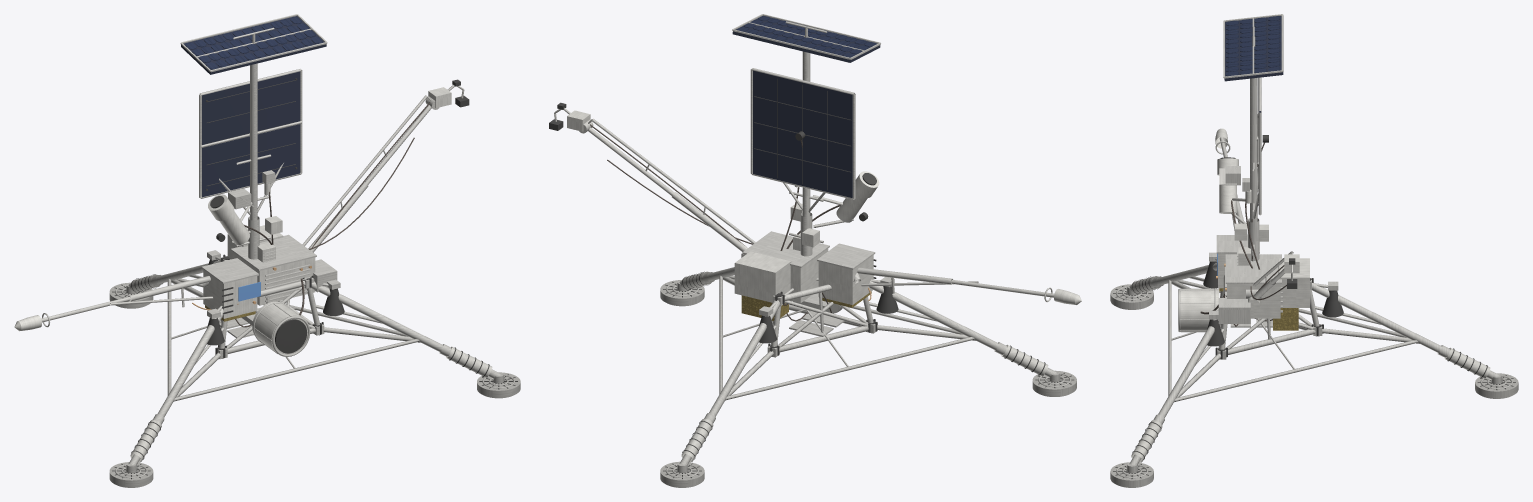
3 views of the same model, side by side, from view 1: azimuth 30°, elevation 25°; view 2: azimuth 150°, elevation 25°; view 3: azimuth 270°, elevation 25° (orthographic). The views are drawn at different scales.
Parts seen in each view (by area): view 1: Mast_Panels, Legs, Equipment, Booms, Camera, Frame, Cables; view 2: Mast_Panels, Legs, Equipment, Booms, Frame, Camera, Cables; view 3: Legs, Equipment, Mast_Panels, Frame, Camera, Booms, Cables.
Part boxes in pixels (x1,y1,x2,y2): Mast_Panels: [180, 14, 327, 262]; Legs: [109, 250, 520, 487]; Equipment: [201, 225, 337, 356]; Booms: [14, 79, 469, 331]; Camera: [208, 170, 282, 244]; Frame: [215, 254, 324, 359]; Cables: [192, 102, 430, 327]; Mast_Panels: [732, 14, 880, 256]; Legs: [660, 267, 1076, 487]; Equipment: [734, 231, 876, 336]; Booms: [549, 102, 1081, 304]; Frame: [767, 278, 877, 357]; Camera: [790, 171, 879, 227]; Cables: [590, 124, 871, 321]; Legs: [1110, 252, 1518, 487]; Equipment: [1178, 235, 1309, 332]; Mast_Panels: [1223, 14, 1283, 265]; Frame: [1215, 275, 1323, 359]; Camera: [1217, 157, 1249, 240]; Booms: [1215, 128, 1299, 310]; Cables: [1200, 142, 1286, 326].
Bounding box in the file's own units: 4.37 × 3.06 × 3.19.
Materials: 10 (5 with a texture image).
